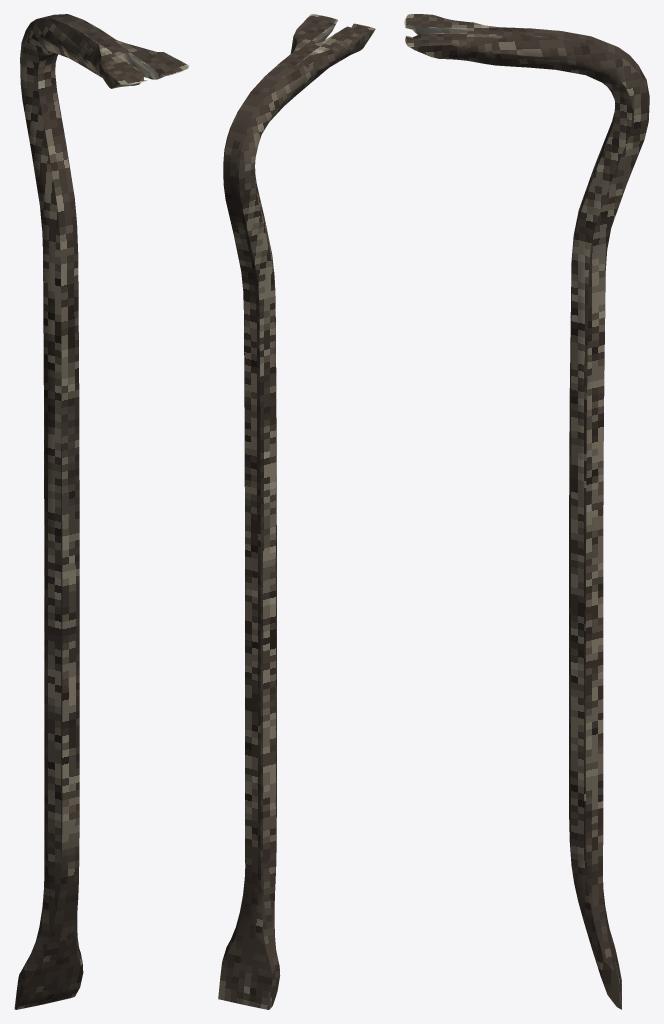
Rendered from crowbar_01.glb.
3 views of the same model, side by side, from view 1: azimuth 30°, elevation 25°; view 2: azimuth 150°, elevation 25°; view 3: azimuth 270°, elevation 25° (orthographic). The views are drawn at different scales.
Visible parts, largest first — view 1: body; view 2: body; view 3: body.
Boxes of the visible parts, <box> form: body: <box>14,14,188,1009</box>; body: <box>218,14,375,1009</box>; body: <box>404,14,649,1009</box>.
Bounding box in the file's own units: 0.0403 × 0.5554 × 0.1276.
Materials: 1 (1 with a texture image).
